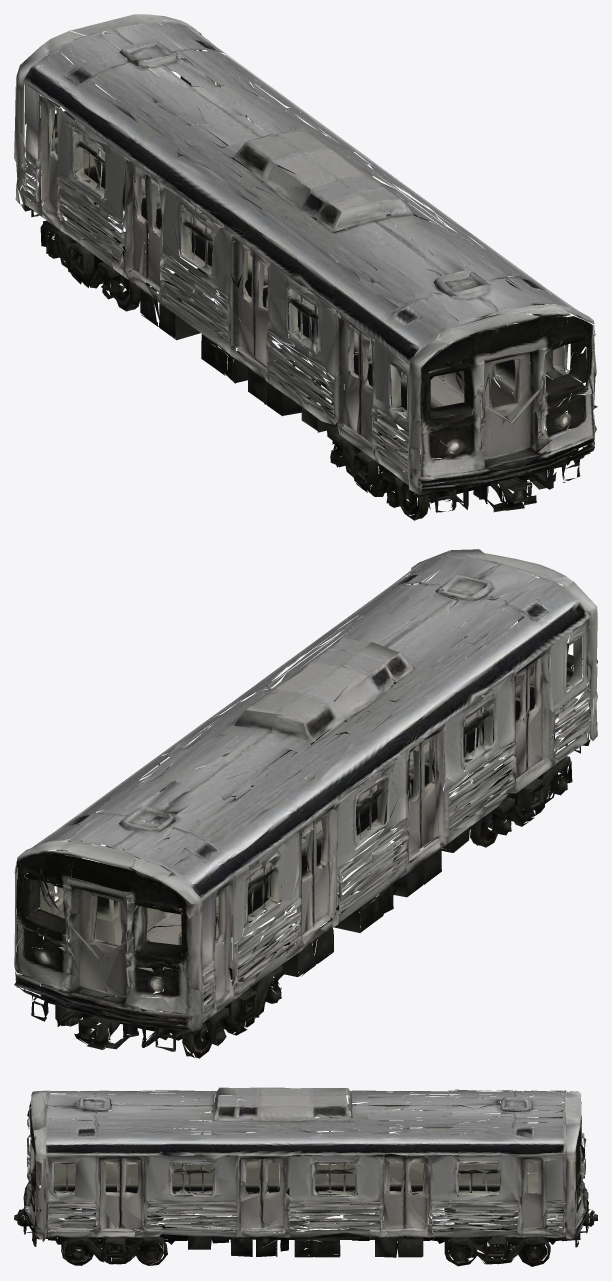
Rendered from h_subway_car_lo.glb.
3 renders of one model, top to bottom at view 1: azimuth 30°, elevation 25°; view 2: azimuth 150°, elevation 25°; view 3: azimuth 270°, elevation 25°, orthographic. The views are drawn at different scales.
Visible parts, largest first — view 1: tripo_node_850b30e2-8202-47f7-8c36-bddd7a689659; view 2: tripo_node_850b30e2-8202-47f7-8c36-bddd7a689659; view 3: tripo_node_850b30e2-8202-47f7-8c36-bddd7a689659.
Boxes of the visible parts, x1,y1,x2,y2 form: tripo_node_850b30e2-8202-47f7-8c36-bddd7a689659: [14, 14, 597, 520]; tripo_node_850b30e2-8202-47f7-8c36-bddd7a689659: [14, 549, 597, 1058]; tripo_node_850b30e2-8202-47f7-8c36-bddd7a689659: [14, 1087, 597, 1266].
Size of the model in its own units: 0.2408 by 0.2794 by 0.9848.
1 material, 1 textured.
